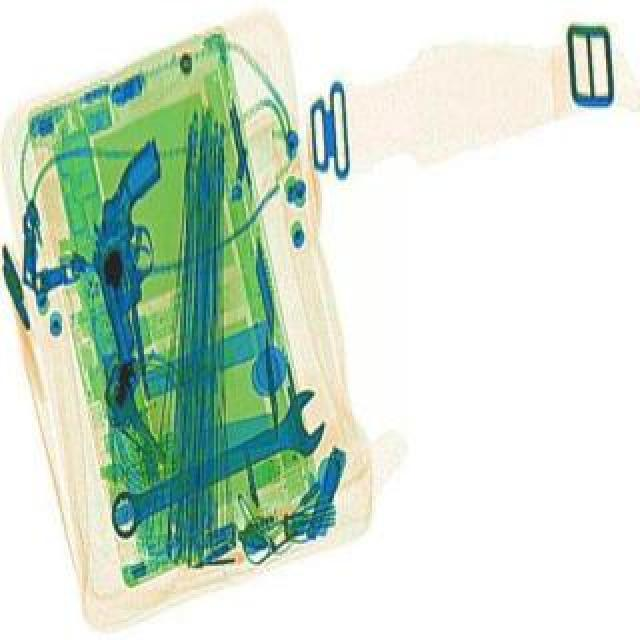gun: (70, 136, 202, 358)
scissors: (92, 382, 340, 544)
